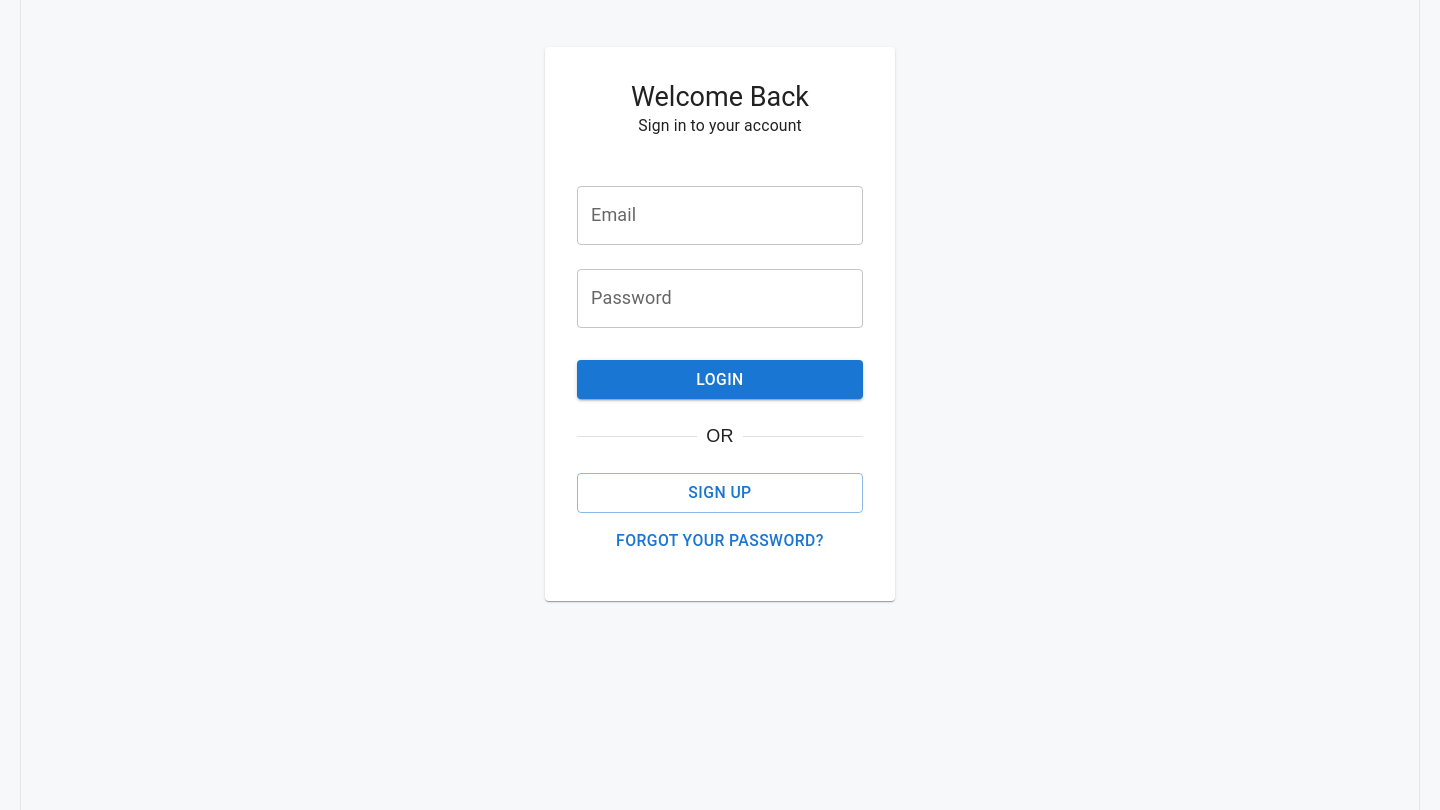
Login › explains a network failure rather than failing silently
Type "dana@example.com" into the field labelled "Email" at point(720, 215), box [577,186,863,245]
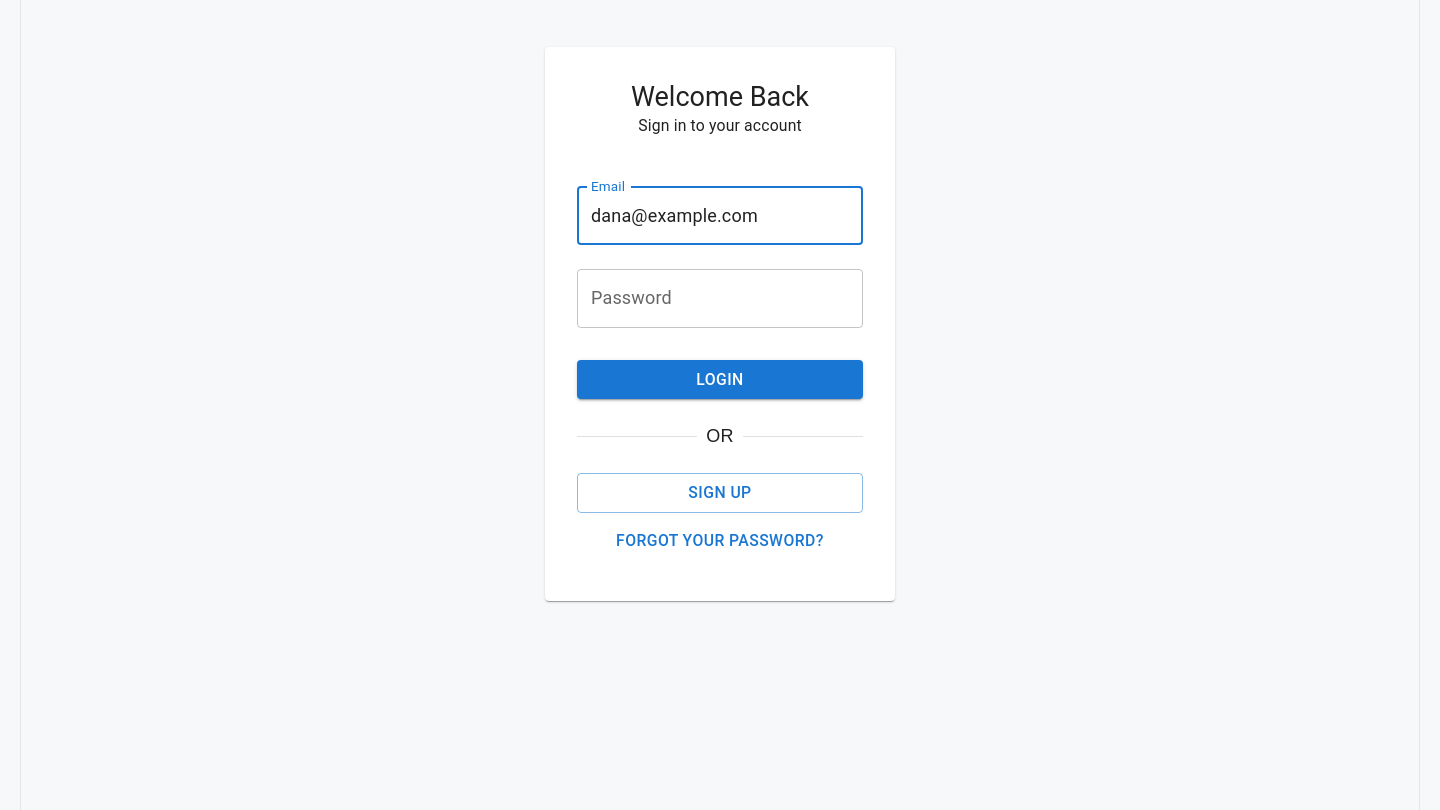
Type "Password123!" into the password field labelled "Password" at point(720, 298), box [577,269,863,328]
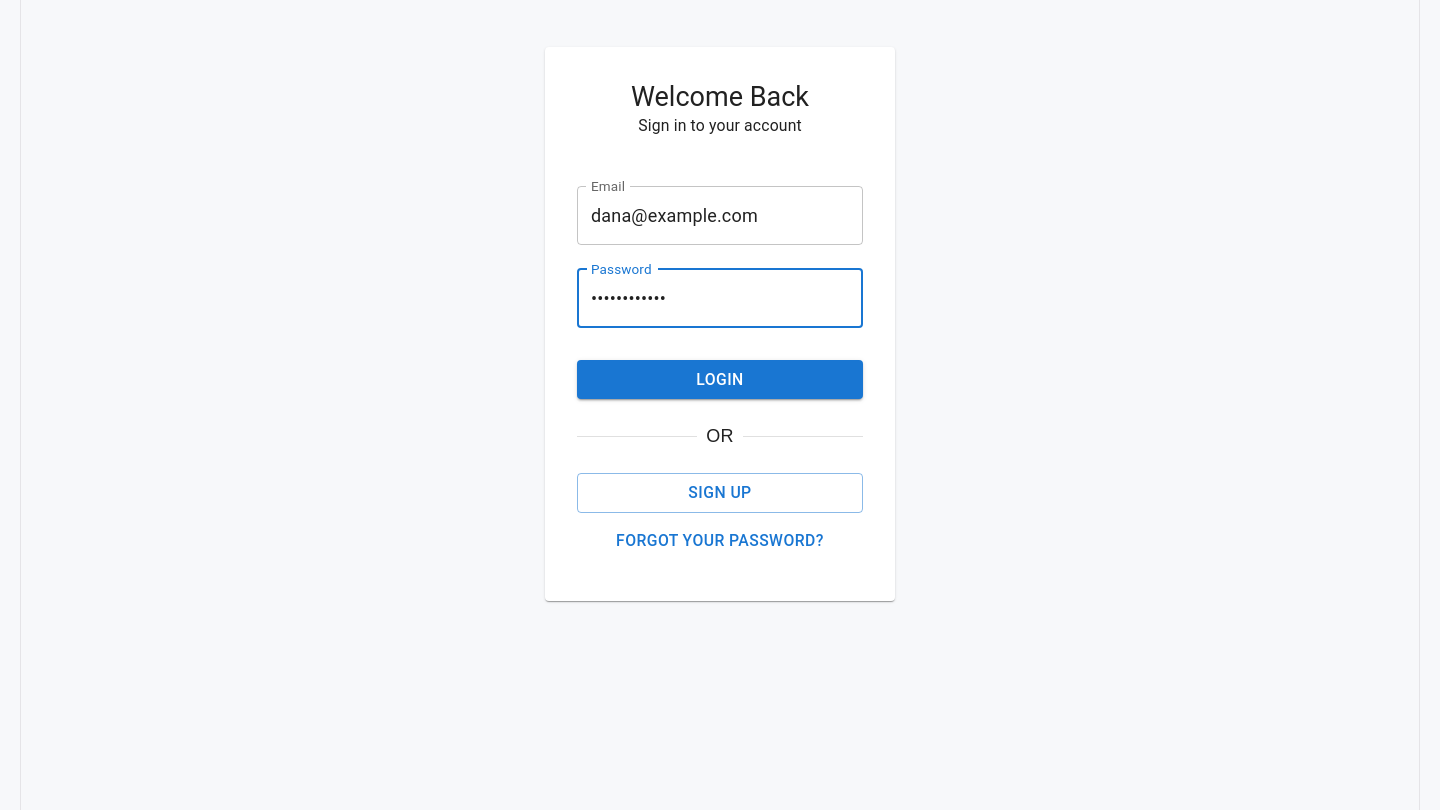
Click the button "Login" at point(720, 380), box [577,360,863,399]
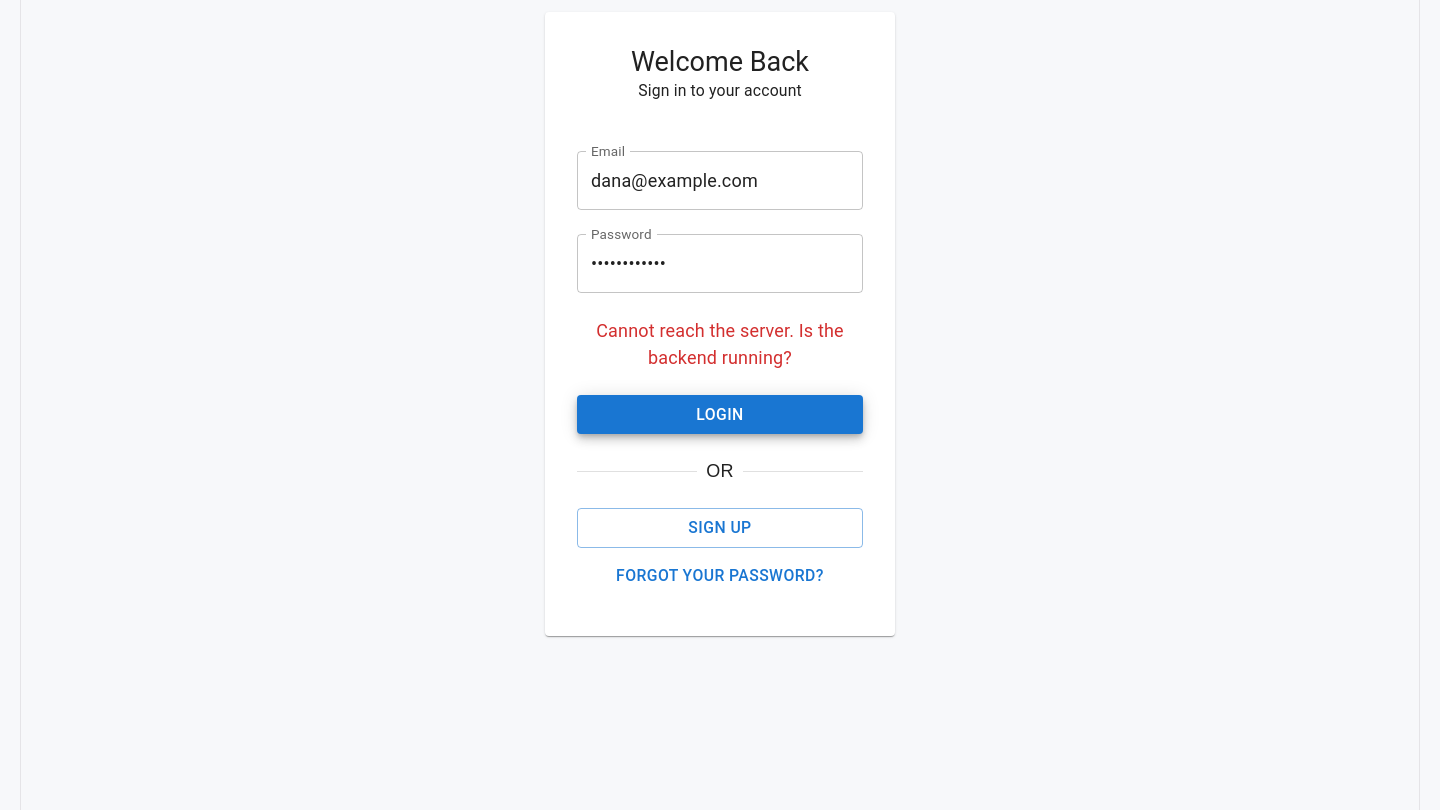
Now the text "Cannot reach the server. Is the backend running?" is shown, box [577,317,863,371]
